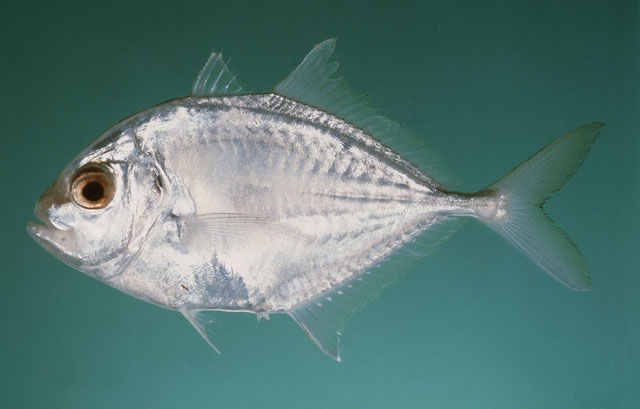fish: (26, 37, 606, 361)
